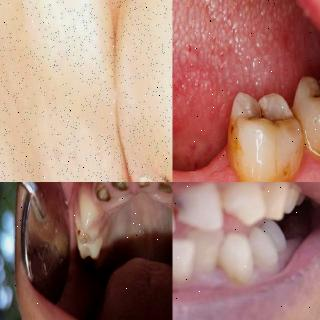Gum Swelling: (90, 182, 172, 212)
cavities: (244, 92, 292, 140), (172, 195, 188, 219), (75, 224, 91, 247)
maligned: (214, 234, 254, 282), (193, 228, 228, 265), (173, 240, 197, 281)
stains: (227, 116, 299, 182), (303, 113, 320, 163)
